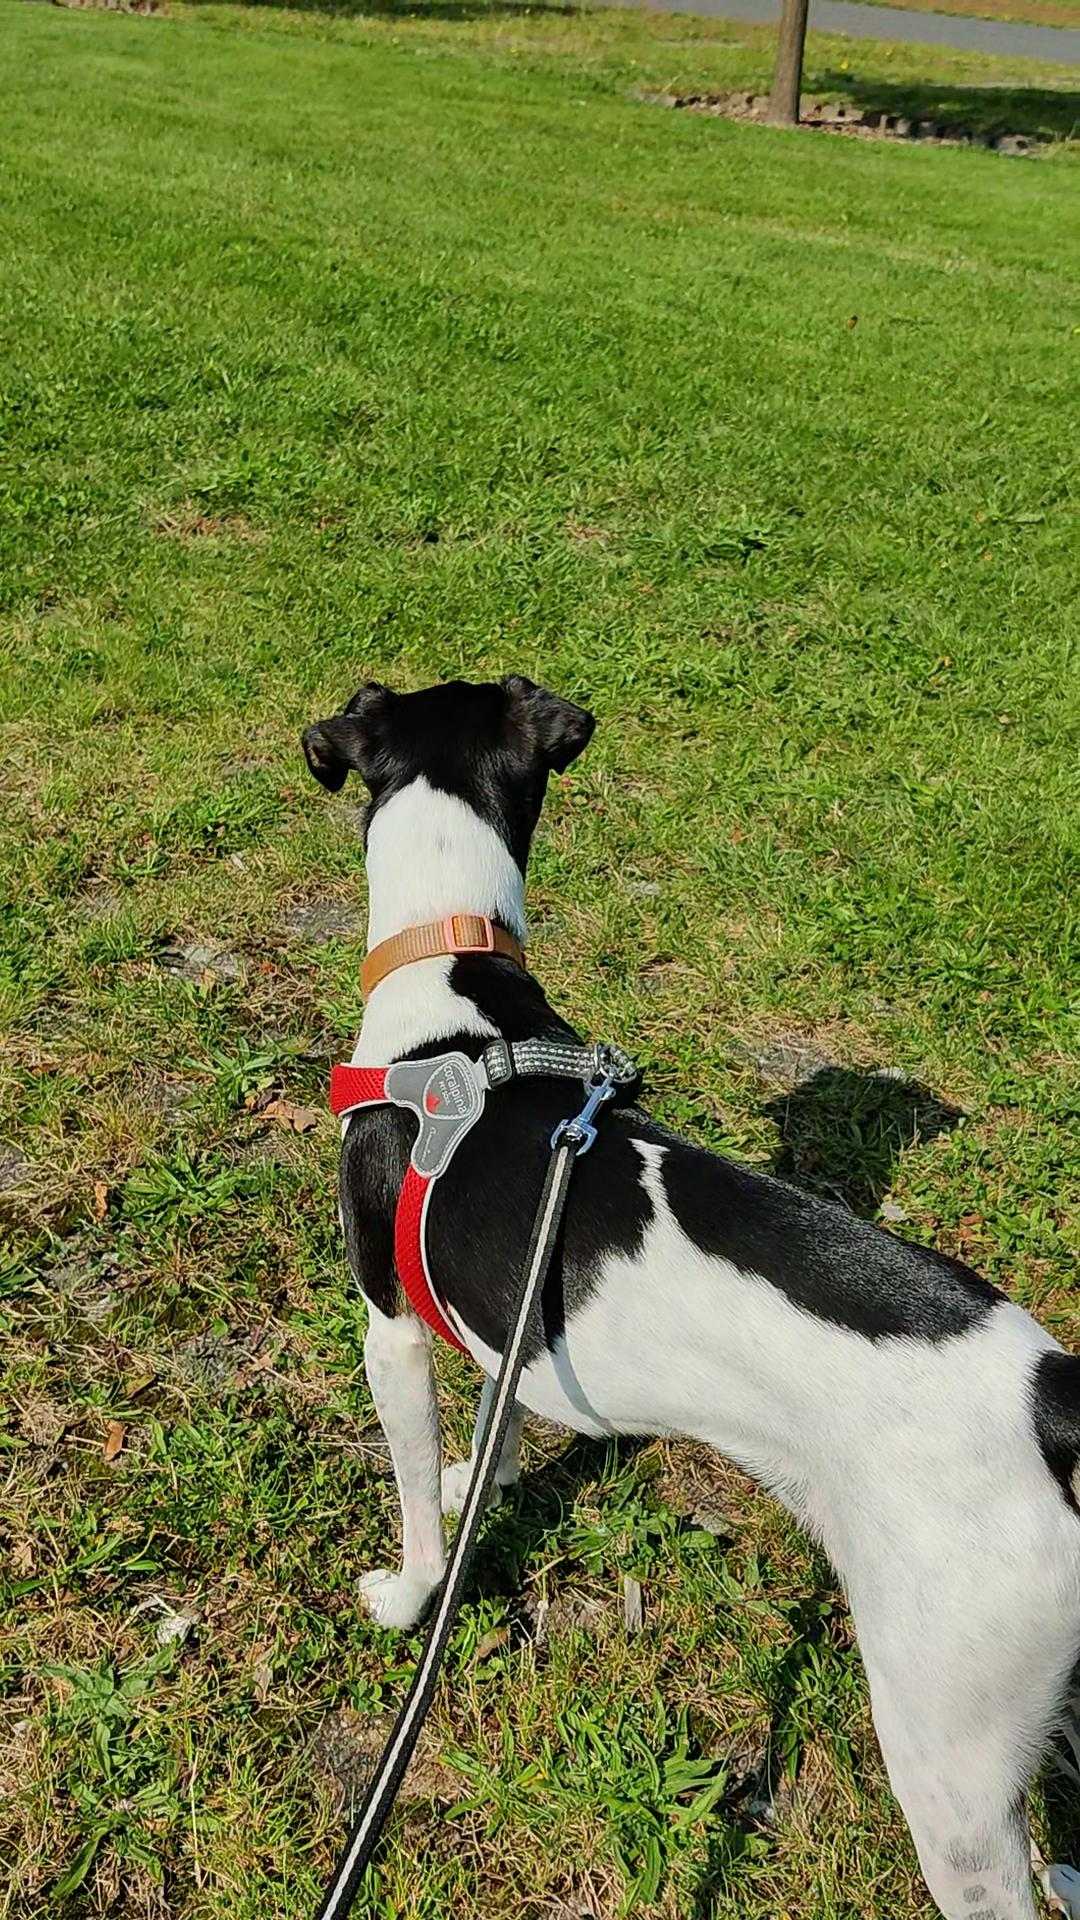Dog: (272, 618, 1079, 1919)
